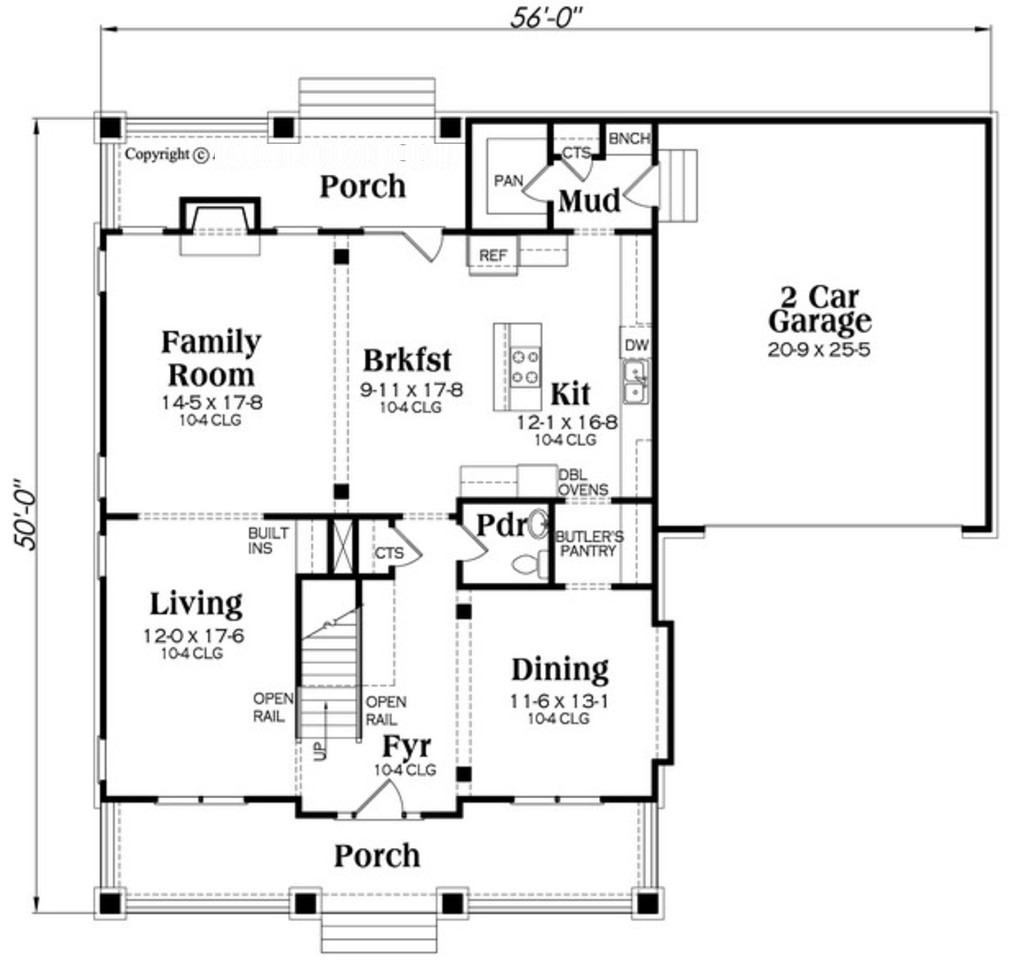door: (618, 157, 669, 216), (400, 220, 454, 266), (359, 781, 416, 820), (380, 526, 426, 573), (553, 145, 604, 182), (513, 160, 557, 202), (448, 528, 492, 566)
kitchen_bar: (489, 316, 556, 416)
large_sink: (510, 546, 554, 587)
small_sink: (521, 507, 554, 541)
stairs: (294, 573, 373, 754)
twin_sink: (621, 354, 660, 414)
window: (85, 449, 113, 582), (148, 788, 253, 814), (506, 790, 606, 816), (266, 216, 326, 249), (95, 232, 115, 302)
